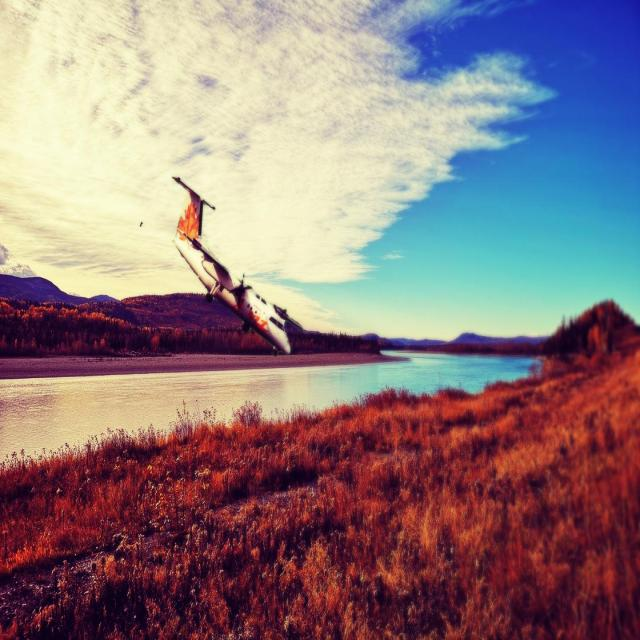airplane: (170, 174, 308, 355)
